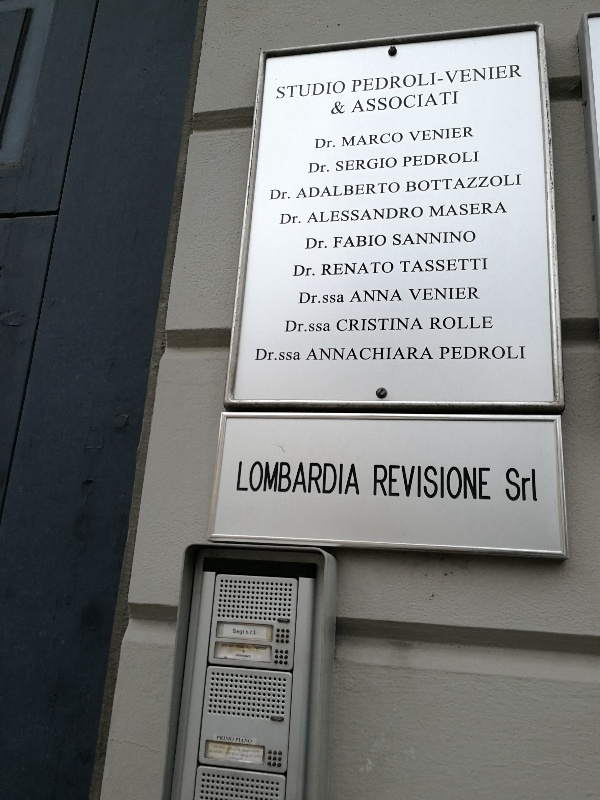text: (385, 463, 400, 502), (401, 463, 416, 502), (417, 463, 432, 502), (433, 463, 448, 502), (449, 463, 464, 502), (465, 463, 480, 502), (241, 460, 256, 497), (257, 460, 272, 497), (273, 460, 288, 497), (289, 460, 304, 497), (305, 460, 320, 497), (321, 460, 336, 497), (337, 460, 352, 497), (513, 467, 528, 503), (353, 64, 368, 96), (369, 64, 384, 96), (385, 64, 400, 96), (401, 64, 416, 96), (417, 64, 432, 96), (433, 64, 448, 96), (449, 64, 464, 96), (465, 64, 480, 96), (481, 64, 496, 96), (497, 64, 512, 96), (374, 463, 384, 502), (481, 463, 491, 502), (513, 64, 525, 96), (369, 90, 384, 115), (385, 90, 400, 115), (401, 90, 416, 115), (417, 90, 432, 115), (433, 90, 448, 115), (529, 467, 538, 503), (289, 80, 304, 101), (305, 80, 320, 101), (321, 80, 336, 101), (417, 173, 432, 194), (433, 173, 448, 194), (449, 173, 464, 194), (465, 173, 480, 194), (481, 173, 496, 194), (497, 173, 512, 194), (385, 181, 401, 200), (321, 205, 336, 225), (337, 205, 352, 225), (353, 205, 368, 225), (369, 205, 384, 225), (385, 205, 400, 225), (401, 205, 416, 225), (353, 460, 361, 497), (417, 150, 432, 169), (433, 150, 448, 169), (449, 150, 464, 169), (305, 181, 320, 200), (321, 181, 336, 200), (337, 181, 352, 200), (353, 181, 368, 200), (369, 181, 384, 200), (401, 229, 416, 248), (417, 229, 432, 248), (433, 229, 448, 248), (449, 229, 464, 248), (465, 286, 481, 303), (433, 201, 448, 219), (449, 201, 464, 219), (465, 201, 480, 219), (481, 201, 496, 219), (465, 150, 479, 169), (337, 260, 352, 277), (353, 260, 368, 277), (369, 260, 384, 277), (401, 257, 416, 274), (417, 257, 432, 274), (433, 257, 448, 274), (449, 257, 464, 274), (465, 257, 480, 274), (417, 286, 432, 303), (433, 286, 448, 303), (449, 286, 464, 303), (337, 316, 352, 333), (353, 316, 368, 333), (369, 316, 384, 333), (385, 316, 400, 333), (401, 316, 416, 333), (358, 90, 368, 115), (449, 90, 459, 115), (403, 150, 416, 169), (353, 132, 368, 148), (369, 132, 384, 148), (385, 132, 400, 148), (417, 127, 432, 143), (433, 127, 448, 143), (449, 127, 464, 143), (337, 157, 352, 173), (353, 157, 368, 173), (369, 157, 384, 173), (337, 234, 352, 250), (353, 234, 368, 250), (369, 234, 384, 250), (305, 290, 320, 306), (321, 290, 336, 306), (369, 288, 384, 304), (385, 288, 400, 304), (433, 315, 448, 331), (449, 315, 464, 331), (465, 315, 480, 331), (321, 346, 336, 362), (337, 346, 352, 362), (353, 346, 368, 362), (369, 346, 384, 362), (385, 346, 400, 362), (401, 346, 416, 362), (417, 346, 432, 362), (449, 345, 464, 361), (465, 345, 480, 361), (481, 345, 496, 361), (497, 345, 512, 361), (322, 260, 336, 277), (277, 80, 288, 101), (465, 229, 477, 248), (289, 319, 304, 334), (305, 319, 320, 334), (257, 347, 272, 362), (273, 347, 288, 362), (497, 201, 509, 219), (506, 467, 512, 503), (406, 173, 416, 194), (305, 237, 320, 251), (385, 157, 398, 173), (481, 315, 494, 331), (513, 345, 526, 361), (289, 347, 302, 362), (337, 80, 346, 101), (513, 173, 522, 194), (289, 212, 302, 226), (273, 189, 288, 201), (357, 288, 368, 304), (385, 260, 395, 277), (321, 138, 336, 149), (321, 319, 332, 334), (209, 749, 224, 760), (225, 749, 240, 760), (241, 749, 256, 760), (342, 132, 352, 148), (465, 127, 475, 143), (293, 264, 304, 278), (439, 345, 448, 361), (313, 205, 320, 225), (417, 205, 424, 225), (305, 264, 315, 278), (408, 286, 416, 303), (417, 316, 425, 333), (225, 745, 240, 754), (241, 745, 256, 754), (393, 229, 400, 248), (408, 127, 416, 143), (337, 290, 345, 306), (337, 101, 346, 115), (309, 163, 320, 174), (225, 643, 240, 651), (241, 643, 256, 651), (481, 257, 488, 274), (280, 212, 288, 226), (313, 346, 320, 362), (321, 163, 330, 174), (213, 745, 224, 754), (321, 237, 328, 251), (257, 643, 268, 651), (241, 737, 252, 745), (299, 290, 304, 306), (225, 735, 234, 743), (241, 653, 252, 659), (257, 749, 263, 760), (243, 649, 256, 654), (246, 630, 256, 636), (332, 101, 336, 115), (233, 628, 240, 636), (217, 735, 224, 743), (315, 138, 320, 149), (229, 757, 240, 762), (429, 201, 432, 219), (401, 132, 404, 148), (333, 234, 336, 250), (401, 288, 404, 304), (302, 181, 304, 200), (239, 460, 240, 497), (257, 745, 261, 754), (385, 234, 387, 250), (430, 315, 432, 331), (433, 346, 435, 362), (241, 628, 245, 636), (236, 737, 240, 745), (286, 319, 288, 334), (270, 189, 272, 201), (289, 189, 291, 201), (237, 653, 240, 659), (399, 257, 400, 274), (222, 643, 224, 651), (255, 347, 256, 362), (241, 757, 244, 762)
